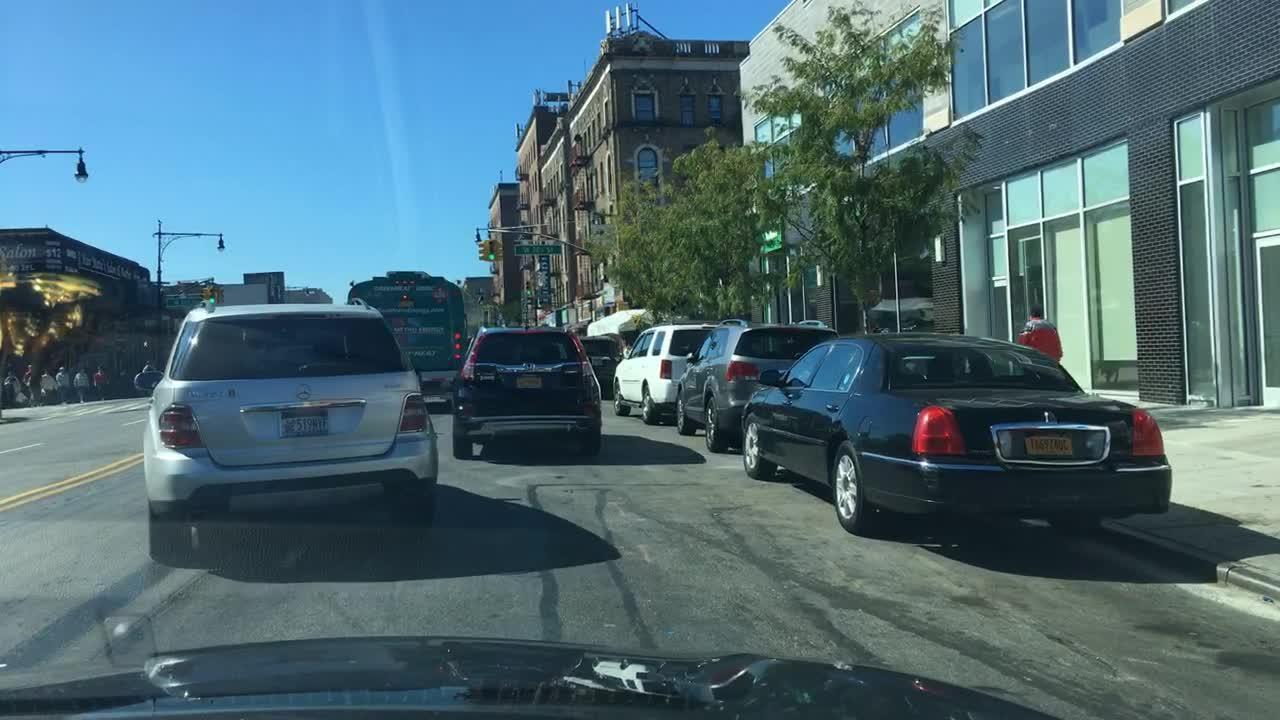Honda: (521, 362, 539, 376)
Mercedes: (286, 380, 323, 406)
lincoln: (1040, 402, 1055, 429)
